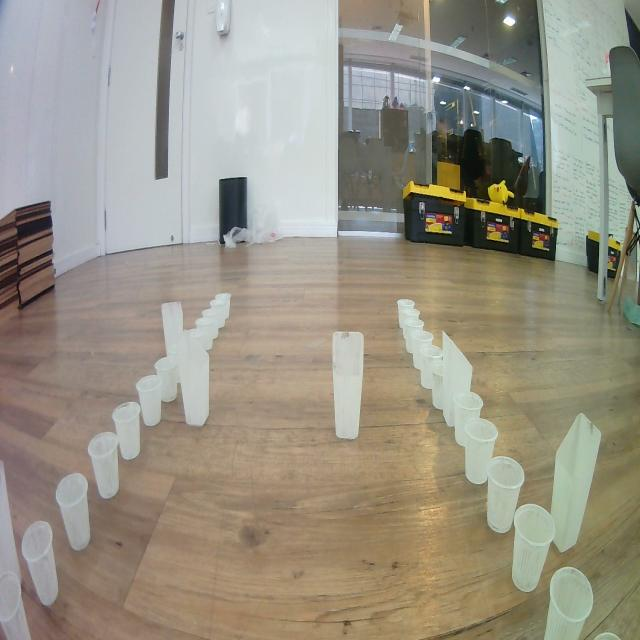erva_daninha: (550, 412, 602, 554), (332, 330, 364, 440), (176, 328, 210, 427), (441, 330, 474, 428), (0, 459, 22, 588), (161, 301, 184, 356)
planta: (511, 503, 556, 593), (544, 566, 594, 640), (22, 520, 59, 607), (486, 456, 525, 535), (56, 472, 92, 552), (464, 417, 498, 486), (88, 430, 120, 500), (0, 571, 32, 640), (112, 401, 142, 461), (452, 391, 484, 447), (136, 373, 164, 428), (155, 356, 178, 403), (420, 345, 443, 390), (412, 330, 433, 371), (404, 318, 425, 353), (188, 327, 212, 352), (195, 316, 219, 341), (432, 361, 444, 411), (402, 308, 421, 339), (396, 299, 414, 329), (202, 308, 226, 330), (209, 299, 229, 321), (216, 292, 232, 318)
